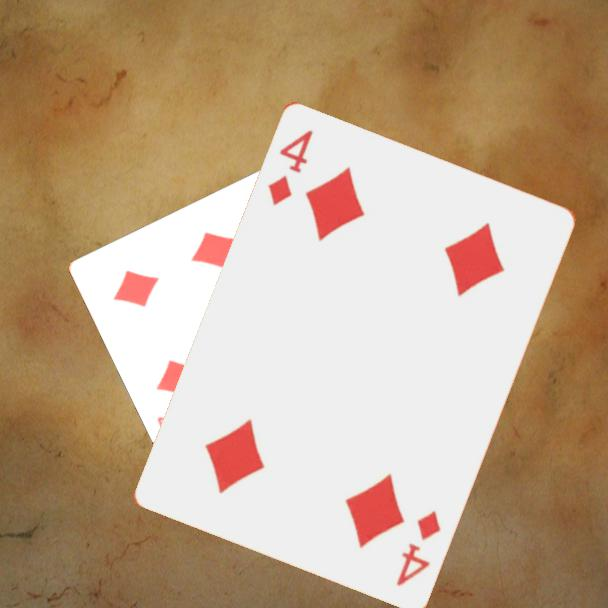d04: (264, 125, 316, 208), (392, 506, 444, 588)
